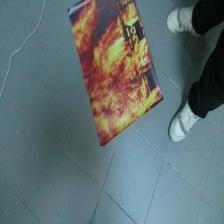fire-poster: (68, 0, 163, 145)
